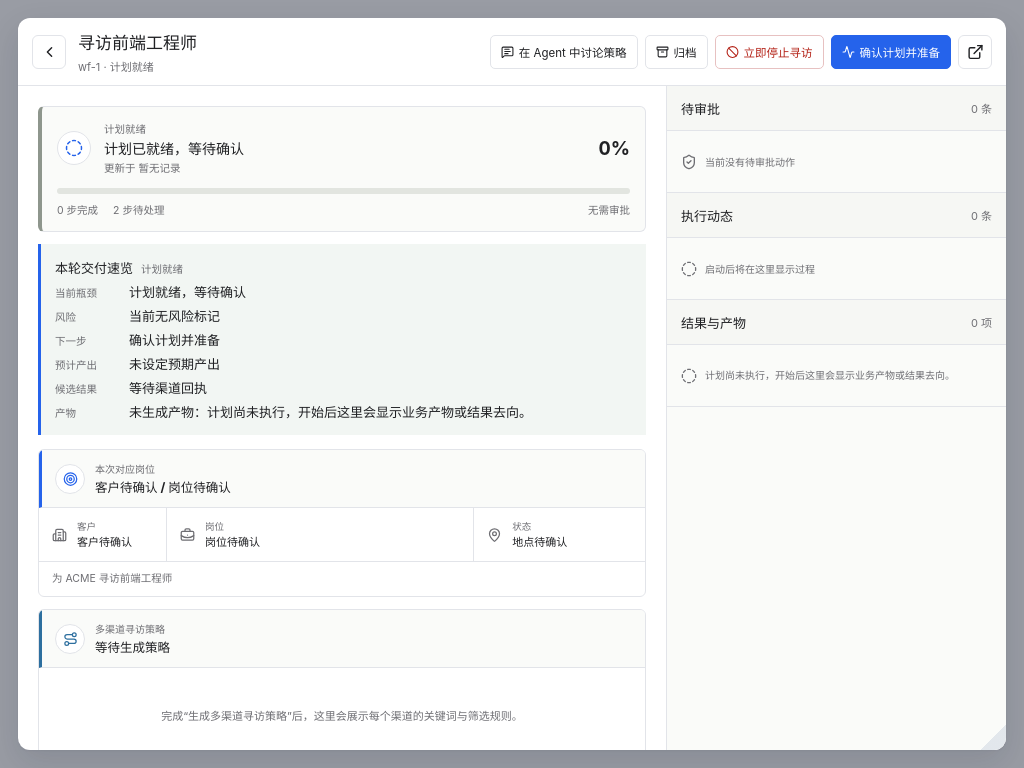
Scenario: 工作流动作反馈 › 启动成功不等待悬挂详情回读，且优先采用 Core 返回的真实工作流状态
This screenshot has width=1024, height=768.
Click the button "确认计划并准备".
click(891, 52)  # box [830,34,951,68]
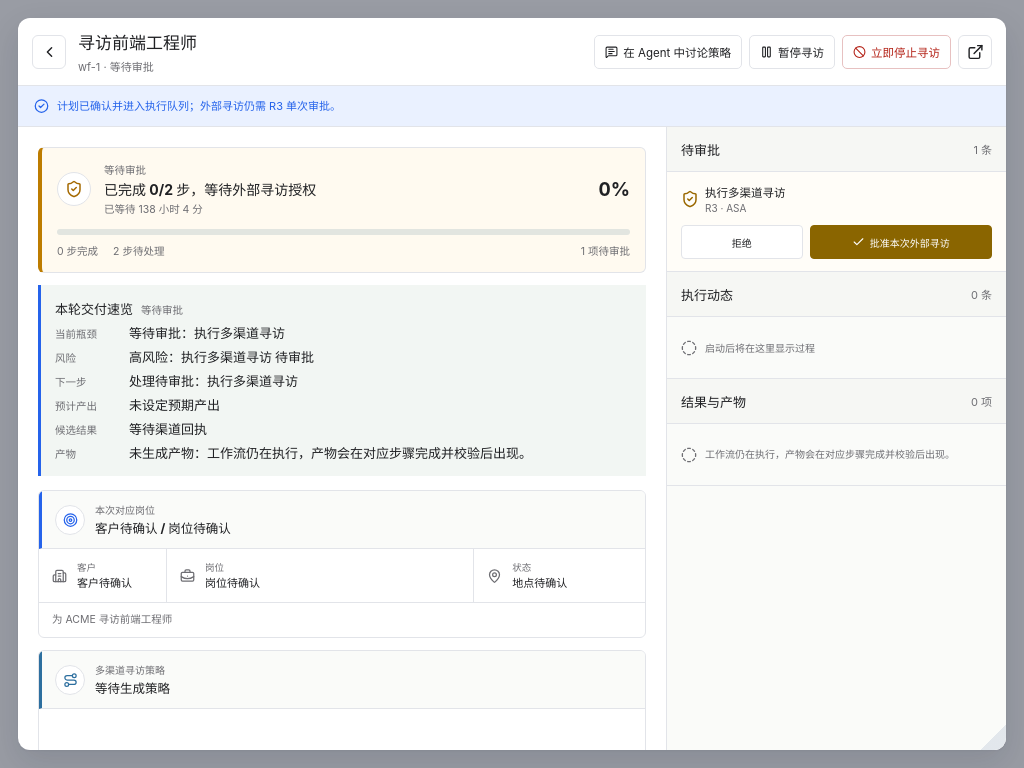
Expected: the message reads "计划已确认并进入执行队列；外部寻访仍需 R3 单次审批。", [57,99,341,113]
Expected: the 1st text "等待审批" is shown, [104,164,146,177]
Expected: the button "批准本次外部寻访" is enabled, [810,225,992,259]
